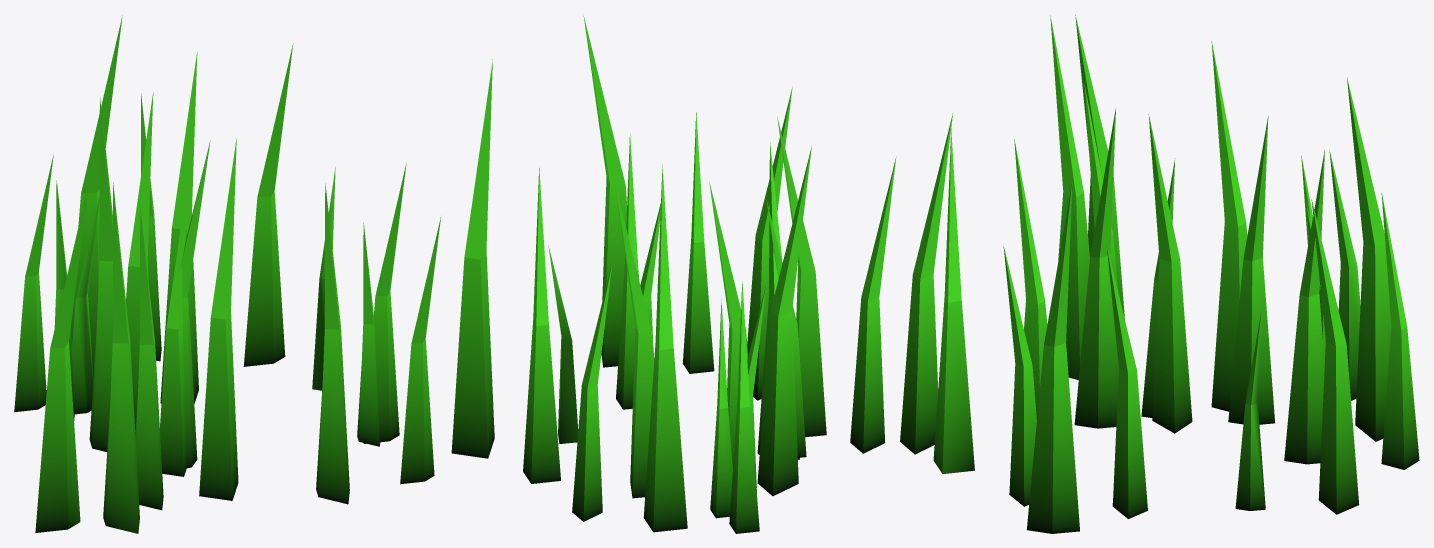
The model's file is grass.fbx.
3 renders of one model, left to right at view 1: azimuth 30°, elevation 25°; view 2: azimuth 150°, elevation 25°; view 3: azimuth 270°, elevation 25°, orthographic. The views are drawn at different scales.
Parts seen in each view (by area): view 1: Grass_LOD0; view 2: Grass_LOD0; view 3: Grass_LOD0.
Boxes of the visible parts, x1,y1,x2,y2 form: Grass_LOD0: (14,15,494,533); Grass_LOD0: (523,16,974,533); Grass_LOD0: (1003,15,1419,533).
Size of the model in its own units: 237 by 196 by 200.
